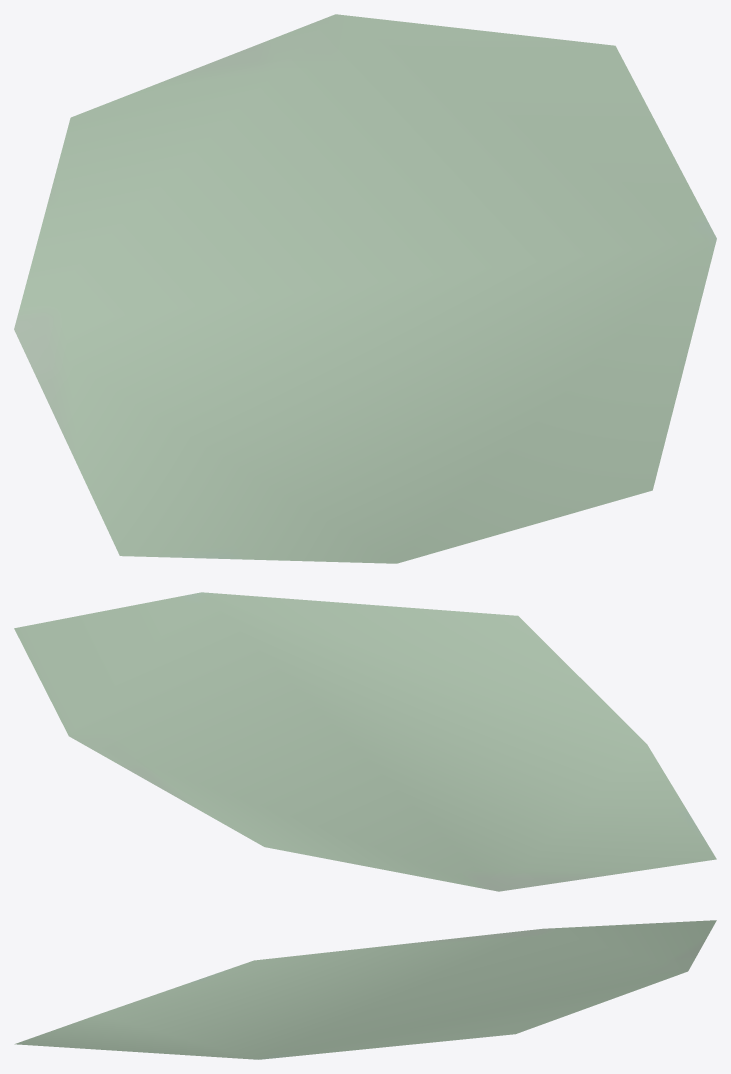
Rendered from TROLLHOLE02_HOLECAP124.fbx.
3 views of the same model, one above another, from view 1: azimuth 30°, elevation 25°; view 2: azimuth 150°, elevation 25°; view 3: azimuth 270°, elevation 25° (orthographic). The views are drawn at different scales.
Parts seen in each view (by area): view 1: TROLLHOLE02_HOLECAP124; view 2: TROLLHOLE02_HOLECAP124; view 3: TROLLHOLE02_HOLECAP124.
Boxes of the visible parts, x1=… form: TROLLHOLE02_HOLECAP124: x1=14, y1=14, x2=716, y2=563; TROLLHOLE02_HOLECAP124: x1=14, y1=592, x2=716, y2=891; TROLLHOLE02_HOLECAP124: x1=14, y1=920, x2=716, y2=1059.
Bounding box in the file's own units: 17049 × 5672 × 19690.
Materials: 1 (1 with a texture image).
